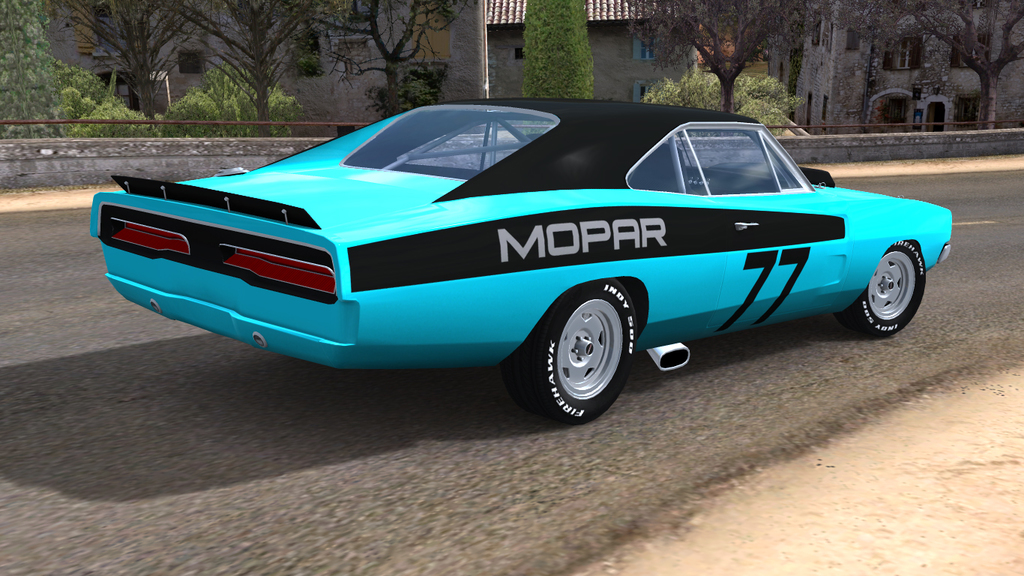Car: (89, 78, 951, 425)
